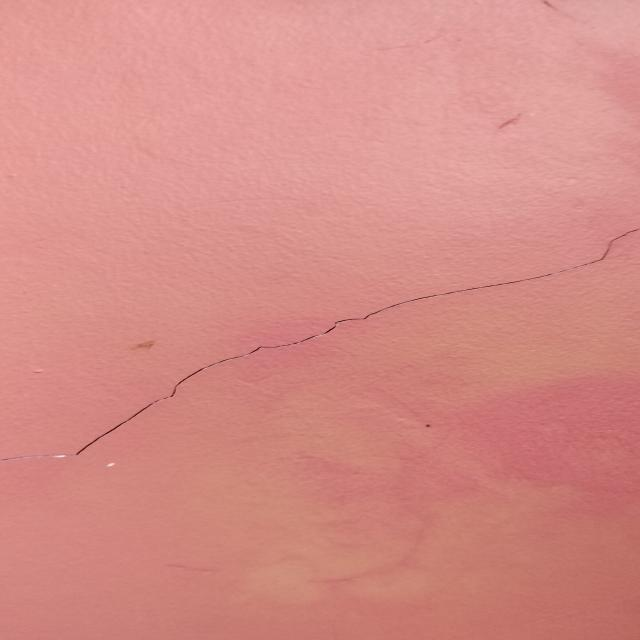Crack: (5, 226, 640, 470)
